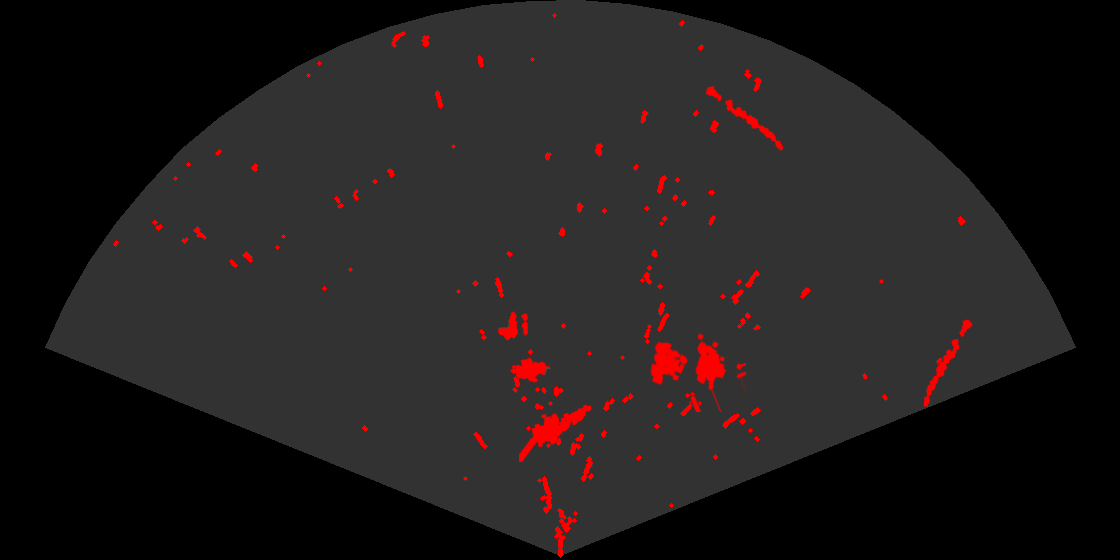AUV: (509, 356, 552, 384)
ball: (497, 310, 530, 342)
cage: (648, 331, 746, 412)
chain: (704, 84, 785, 152), (922, 318, 974, 408)
frogman: (519, 403, 593, 462)
